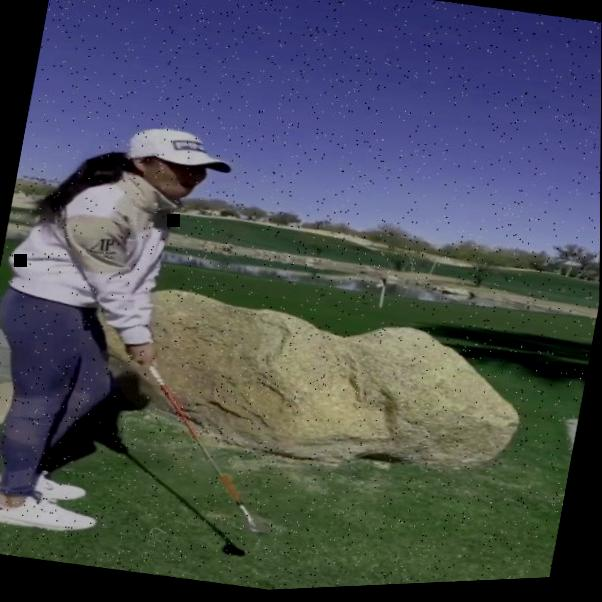ClubHead: (243, 520, 290, 545)
